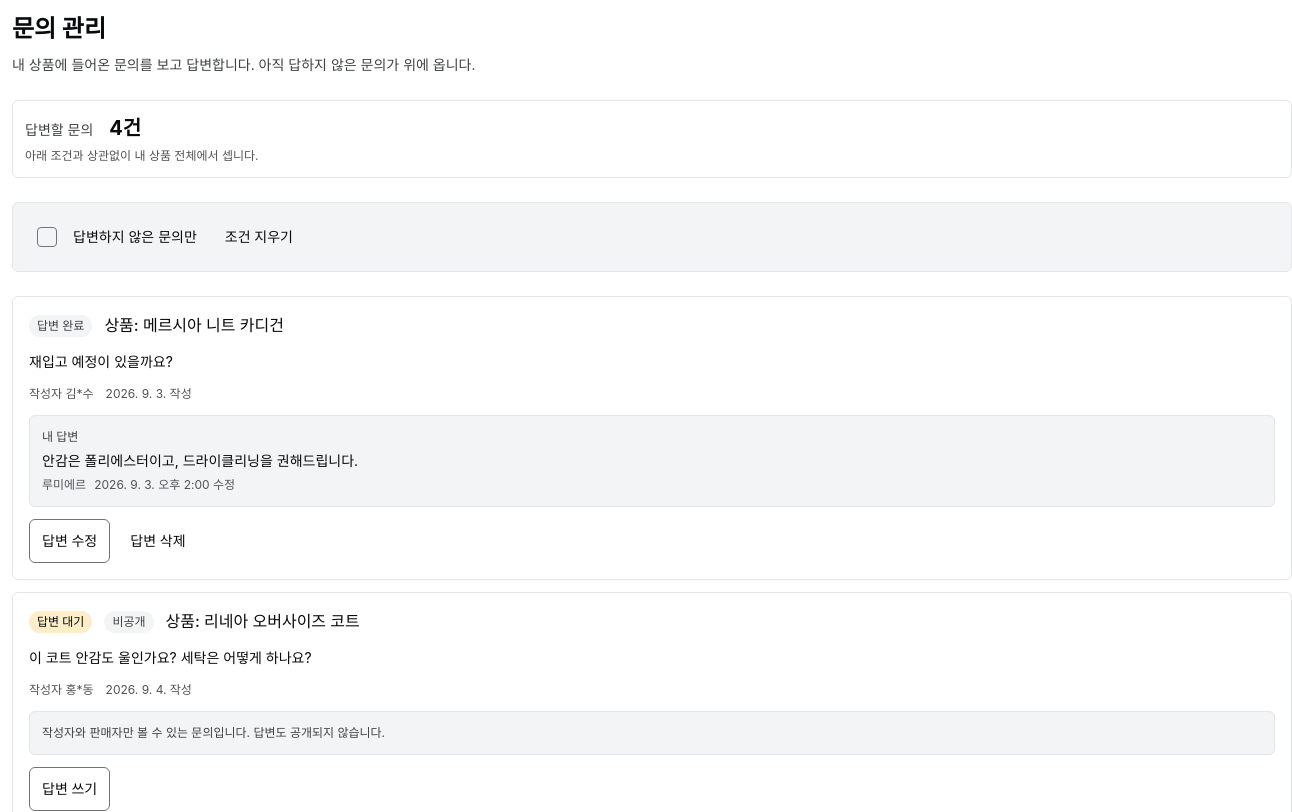
the product question console › the filter › says "none like this" rather than "none at all" when it is on
What coordinates should you click on to do the following:
click the checkbox named "답변하지 않은 문의만"
I would click on:
 (47, 237)
Its box is [25,215,69,259].
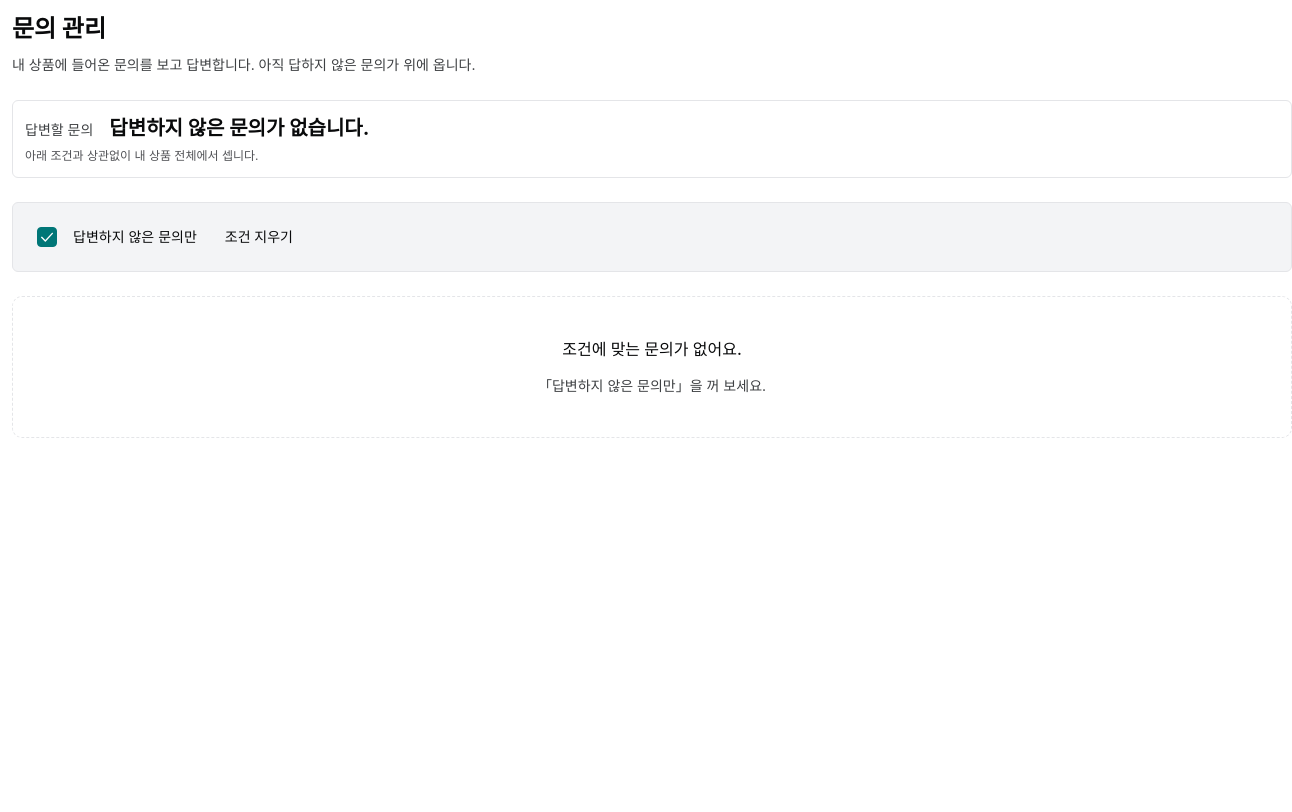
Expected: the text "조건에 맞는 문의가 없어요." is shown, [562,337,742,363]
